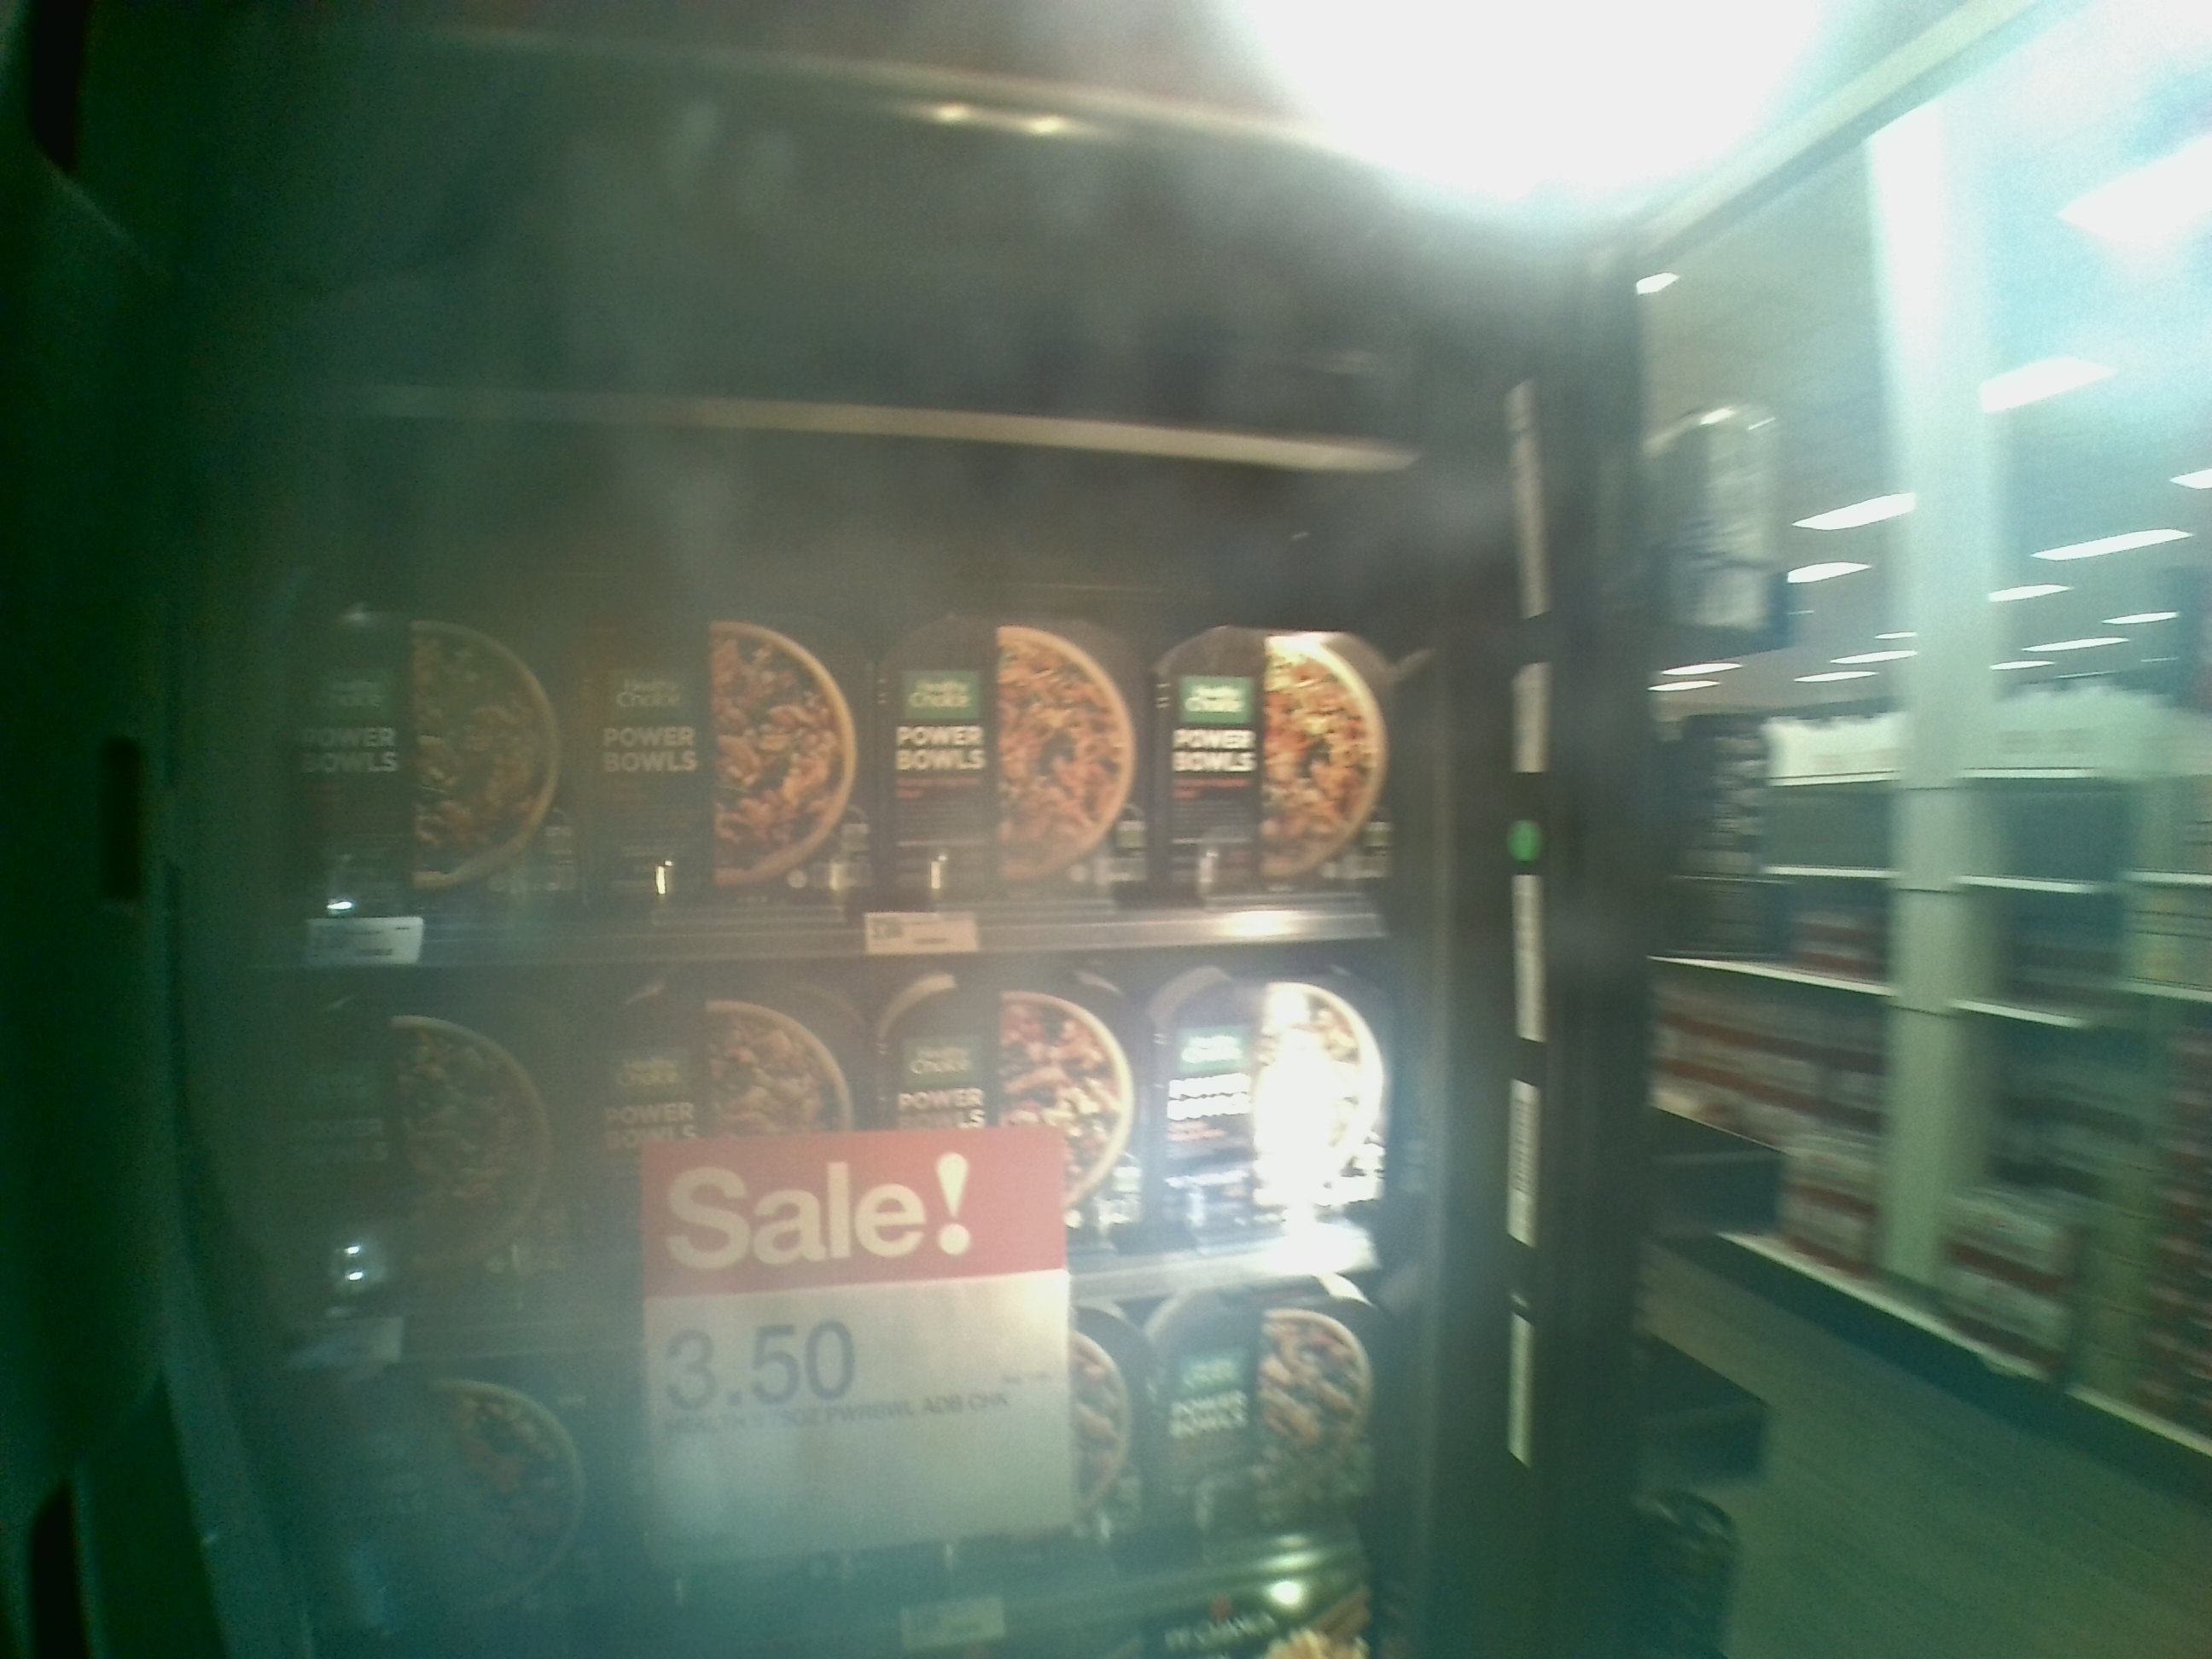shelf: (256, 401, 1395, 953)
